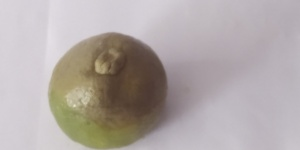BAD: (49, 31, 182, 150)
